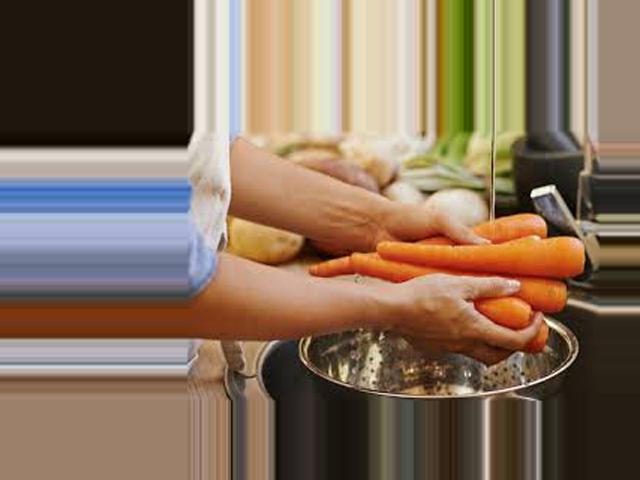carrot: (339, 243, 570, 304)
